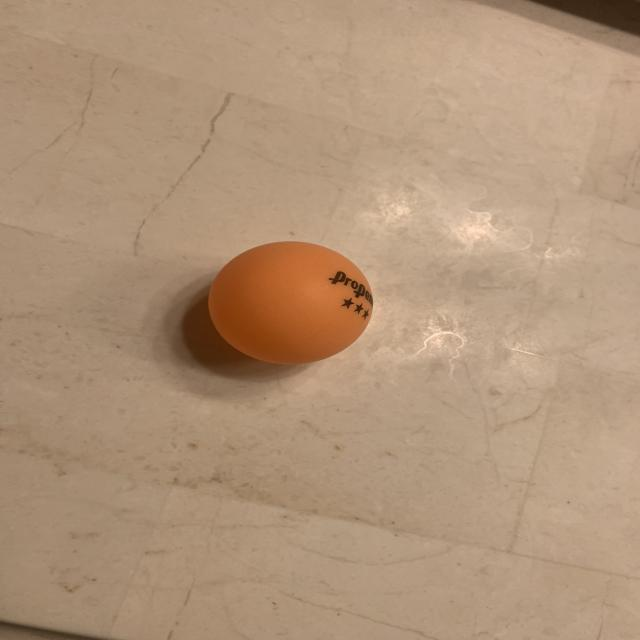ping-pong-ball: (200, 233, 386, 376)
